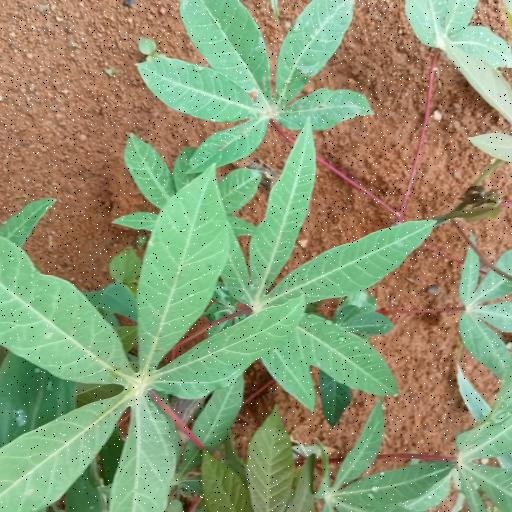Cassava_Mosaic: (0, 180, 300, 512), (154, 5, 376, 157)
